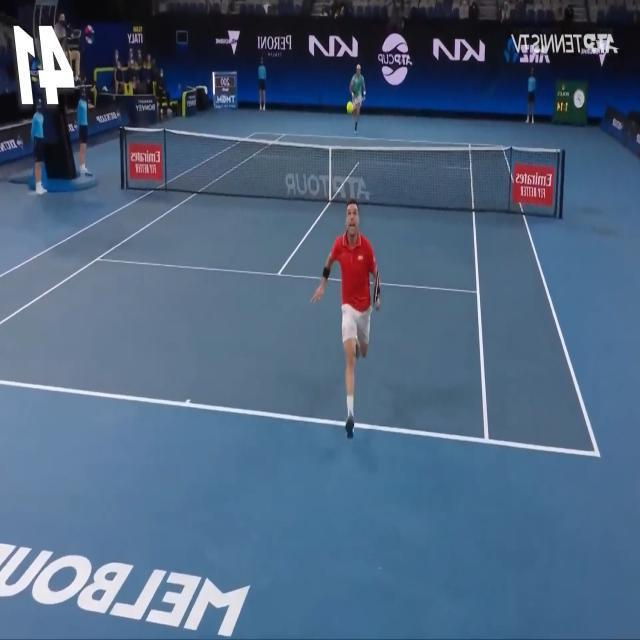court: (0, 132, 601, 458)
net: (119, 137, 566, 207)
player: (309, 198, 381, 439)
